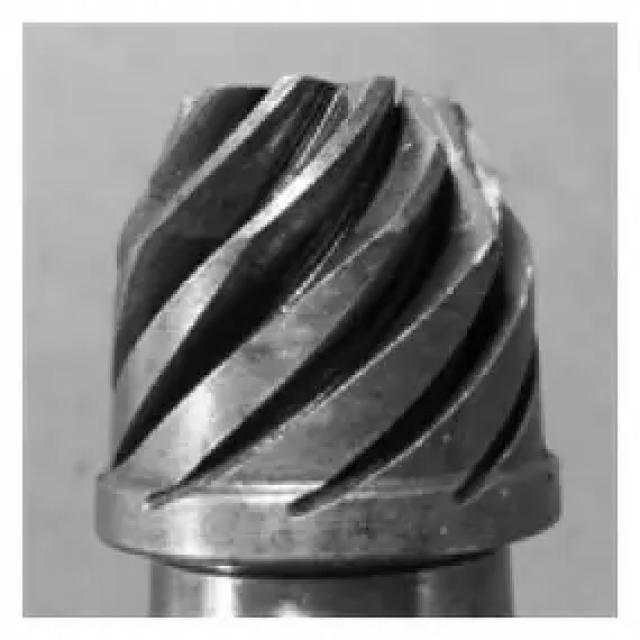Fault-Exist: (414, 92, 546, 307)
